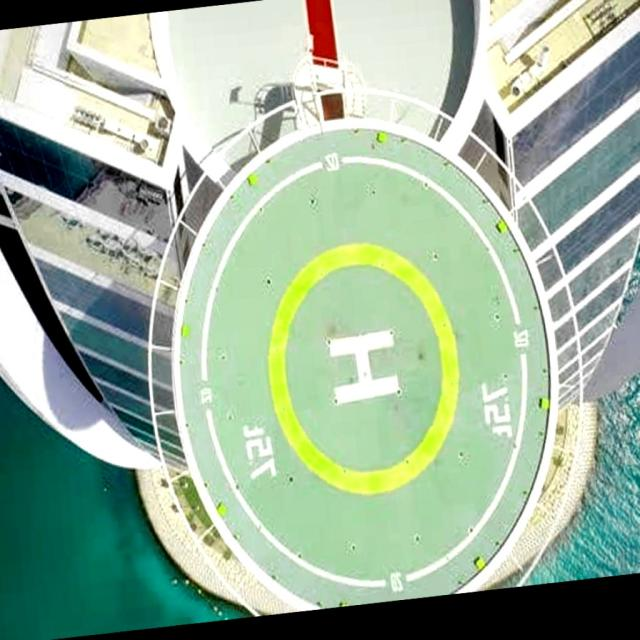helipad: (258, 236, 466, 500)
